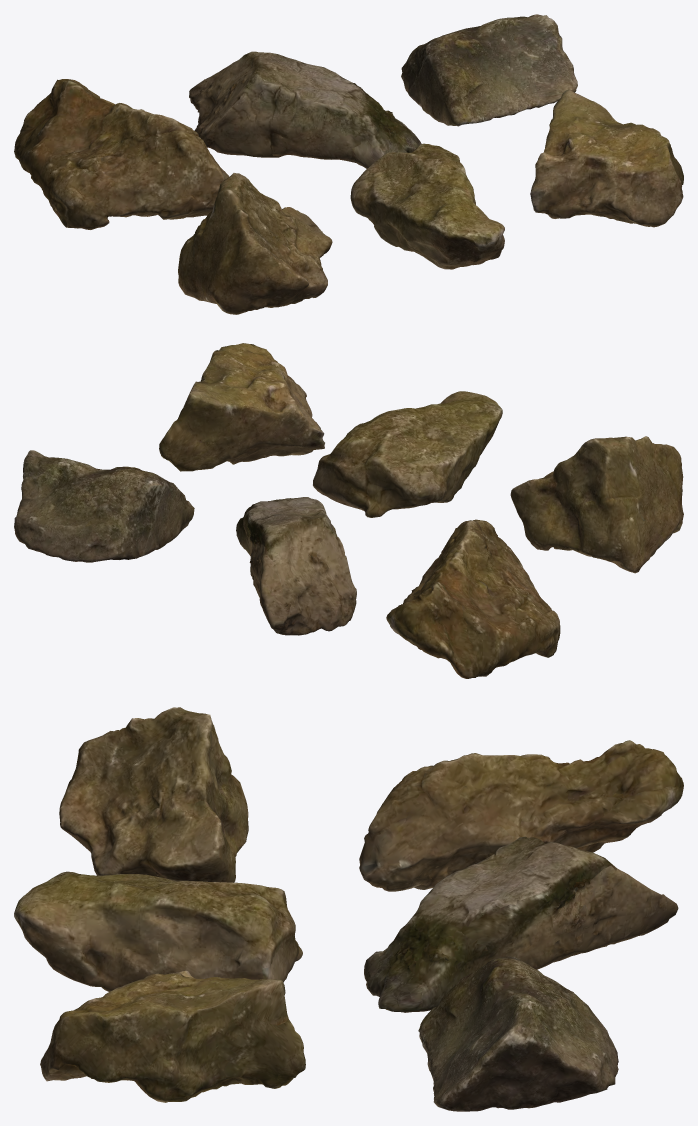
The model's file is rock_moss_set_01.glb.
3 renders of one model, top to bottom at view 1: azimuth 30°, elevation 25°; view 2: azimuth 150°, elevation 25°; view 3: azimuth 270°, elevation 25°, orthographic. The views are drawn at different scales.
Parts seen in each view (by area): view 1: rock_moss_set_01_rock01; view 2: rock_moss_set_01_rock01; view 3: rock_moss_set_01_rock01.
Boxes of the visible parts, x1,y1,x2,y2 form: rock_moss_set_01_rock01: [14, 14, 683, 314]; rock_moss_set_01_rock01: [14, 343, 683, 678]; rock_moss_set_01_rock01: [14, 707, 683, 1111].
Size of the model in its own units: 8 by 1.77 by 6.95.
1 material, 1 textured.
